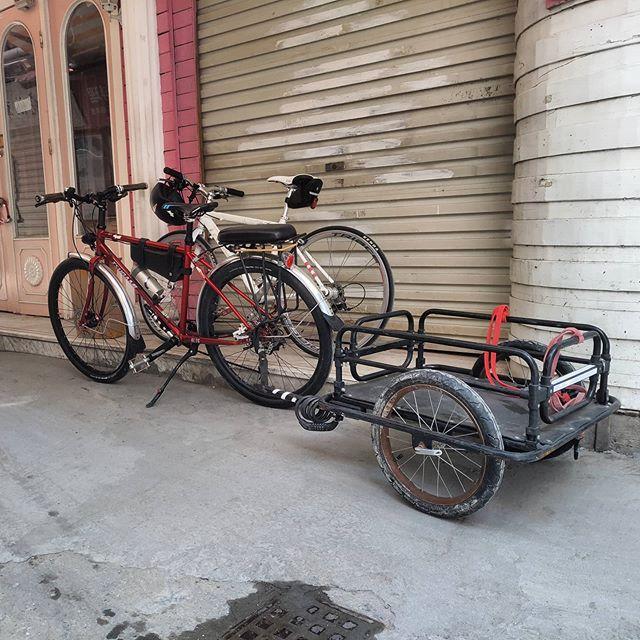bicicle: (50, 202, 331, 412), (164, 175, 401, 339)
building: (7, 1, 640, 346)
